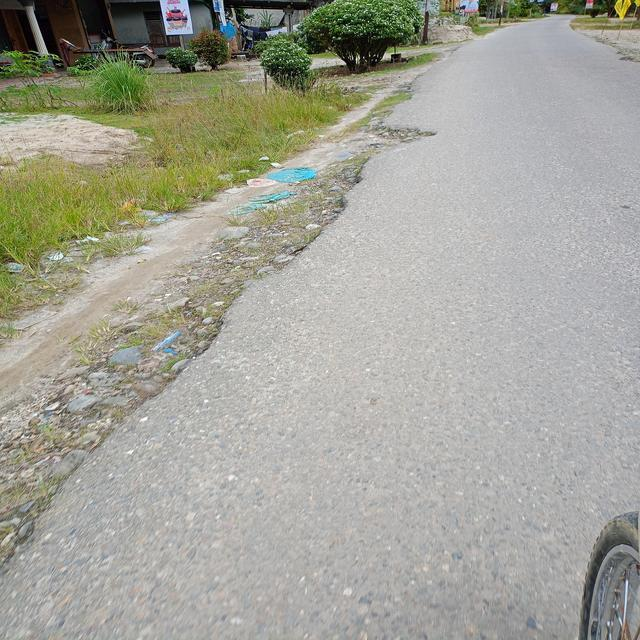Pinggir: (0, 109, 452, 587)
